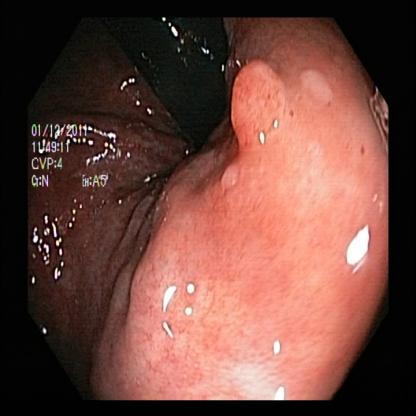Labels: (28, 117, 127, 195)
Polyps: (228, 53, 303, 150)
